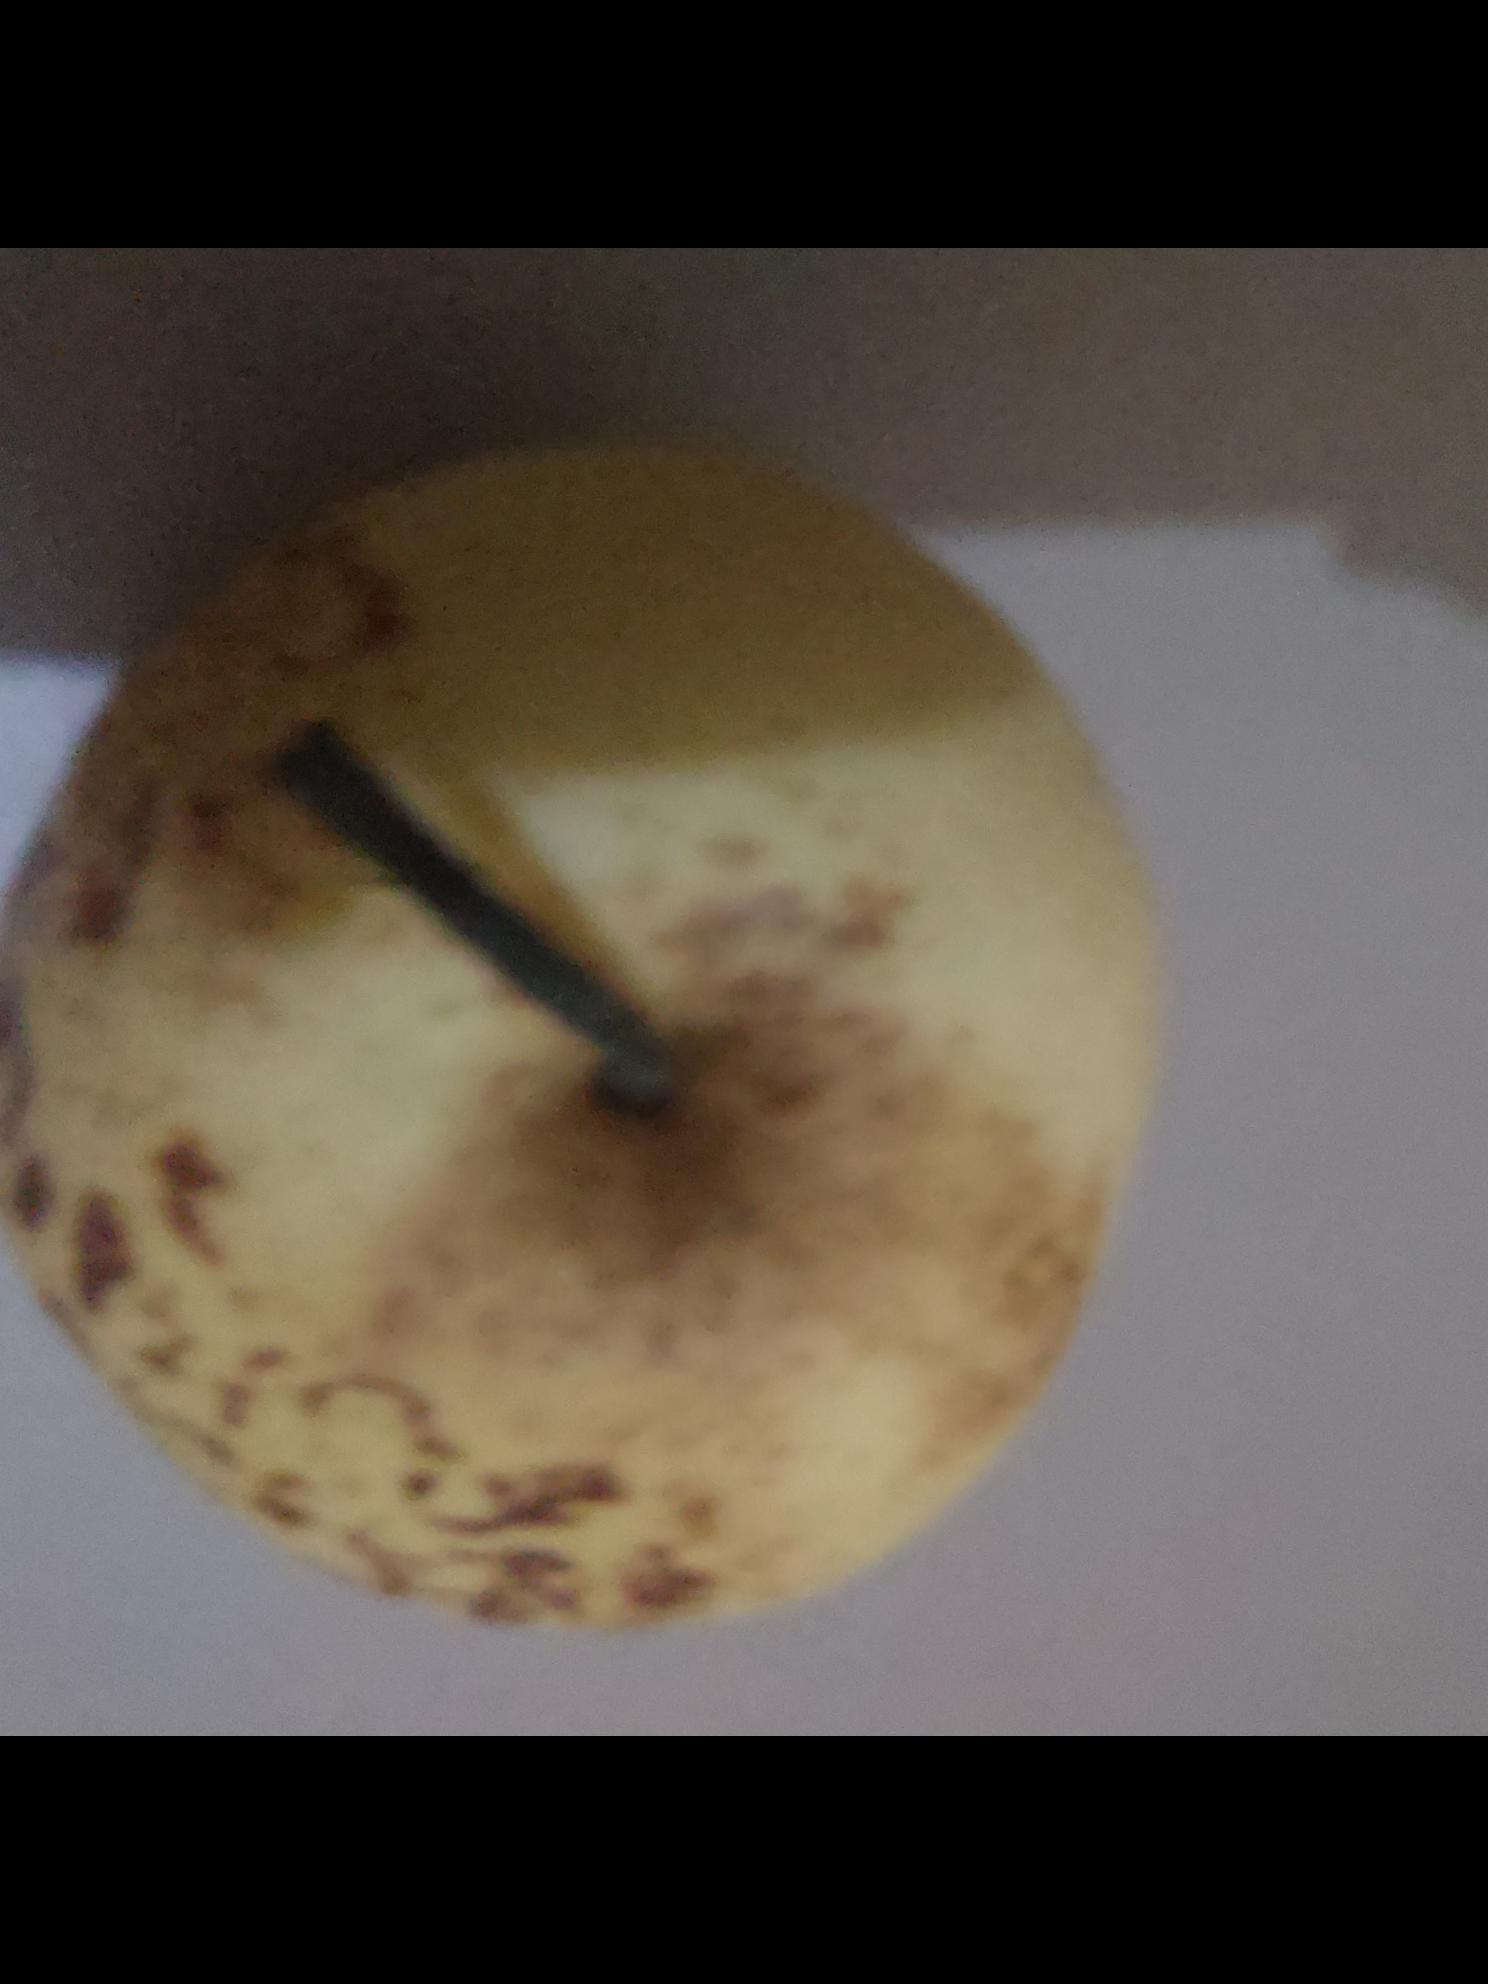Bad Pear: (0, 433, 1150, 1597)
